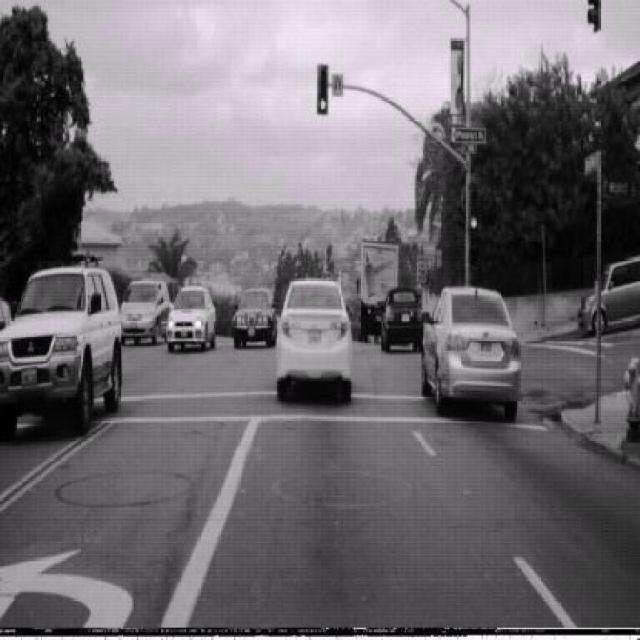speedLimit35: (415, 252, 428, 283)
